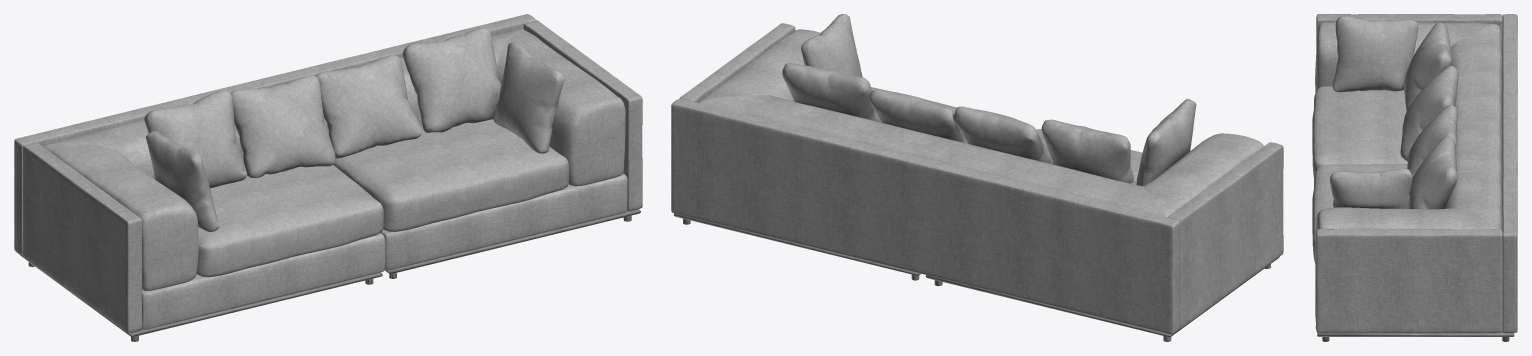
File: sofa-contemporary-opt.glb
3 views of the same model, side by side, from view 1: azimuth 30°, elevation 25°; view 2: azimuth 150°, elevation 25°; view 3: azimuth 270°, elevation 25° (orthographic). The views are drawn at different scales.
Parts seen in each view (by area): view 1: defaultMaterial (×6); view 2: defaultMaterial (×5); view 3: defaultMaterial (×5).
Boxes of the visible parts, x1=… form: defaultMaterial (×6): x1=14, y1=14, x2=642, y2=341; defaultMaterial (×5): x1=671, y1=14, x2=1283, y2=341; defaultMaterial (×5): x1=1312, y1=14, x2=1517, y2=341.
Bounding box in the file's own units: 2 × 0.6017 × 0.7836.
Materials: 6 (6 with a texture image).
